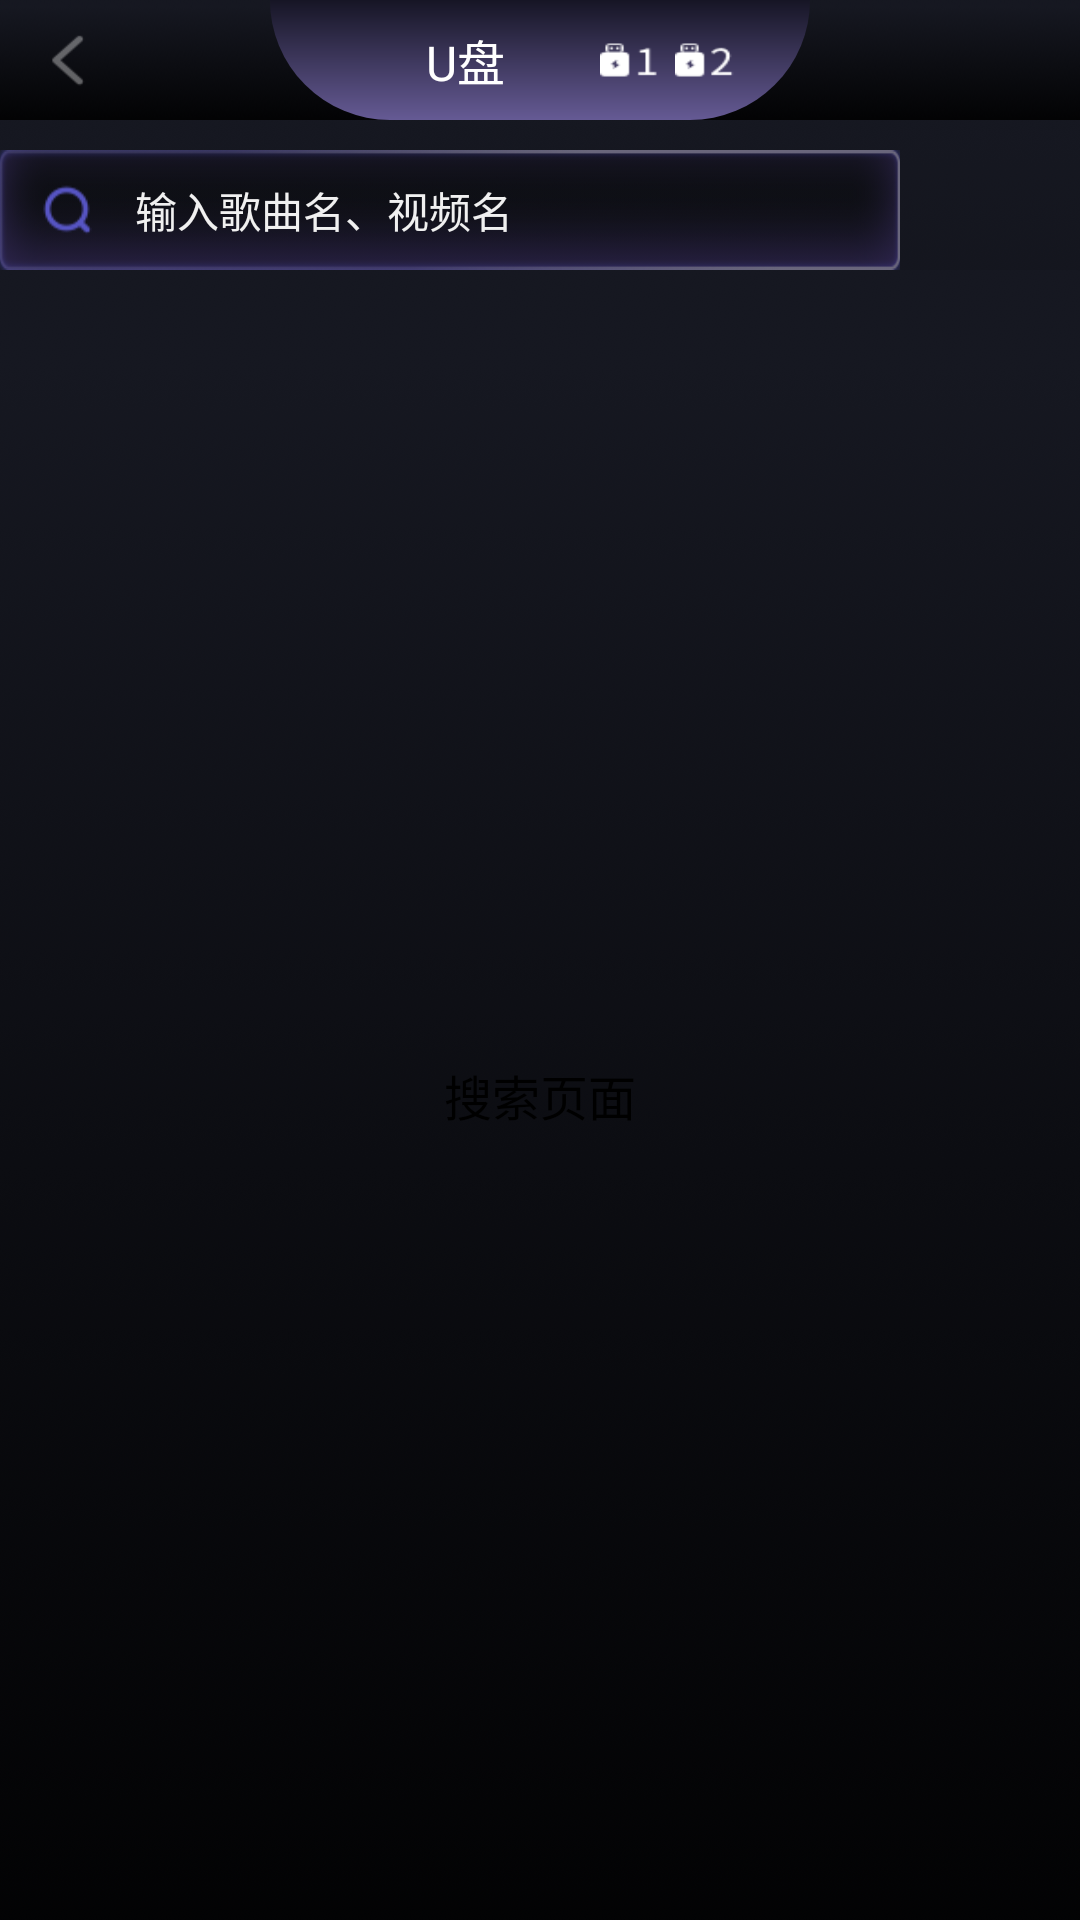

Screen size 1080*1920. Icon name, then its center in pixels as (x=x, y=y):
udisk qqmusicsearch: (x=67, y=210)
